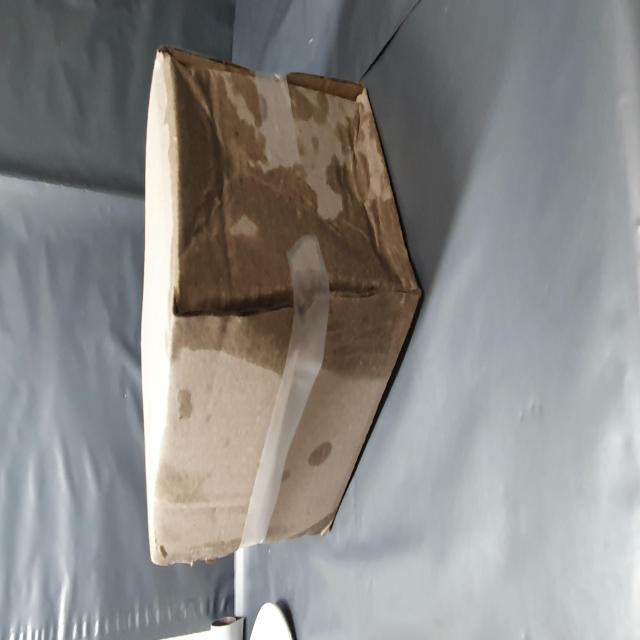wet: (127, 309, 321, 640)
